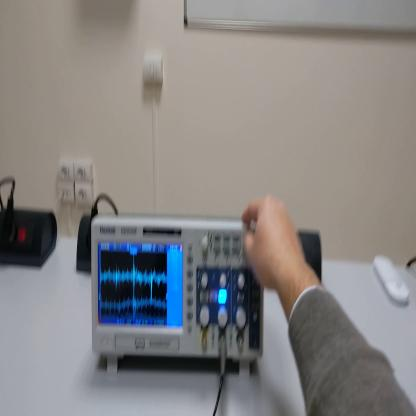hand: (242, 195, 305, 292)
oscilloscope: (91, 210, 263, 389)
socket: (2, 204, 58, 271), (77, 215, 91, 272)
